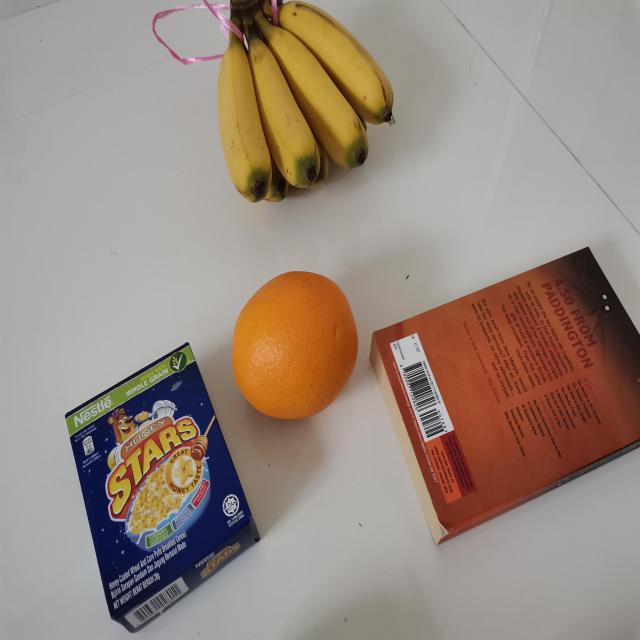Banana: (211, 1, 398, 206)
Book: (366, 244, 640, 552)
Cerealbox: (58, 340, 266, 636)
Orange: (226, 267, 359, 423)
